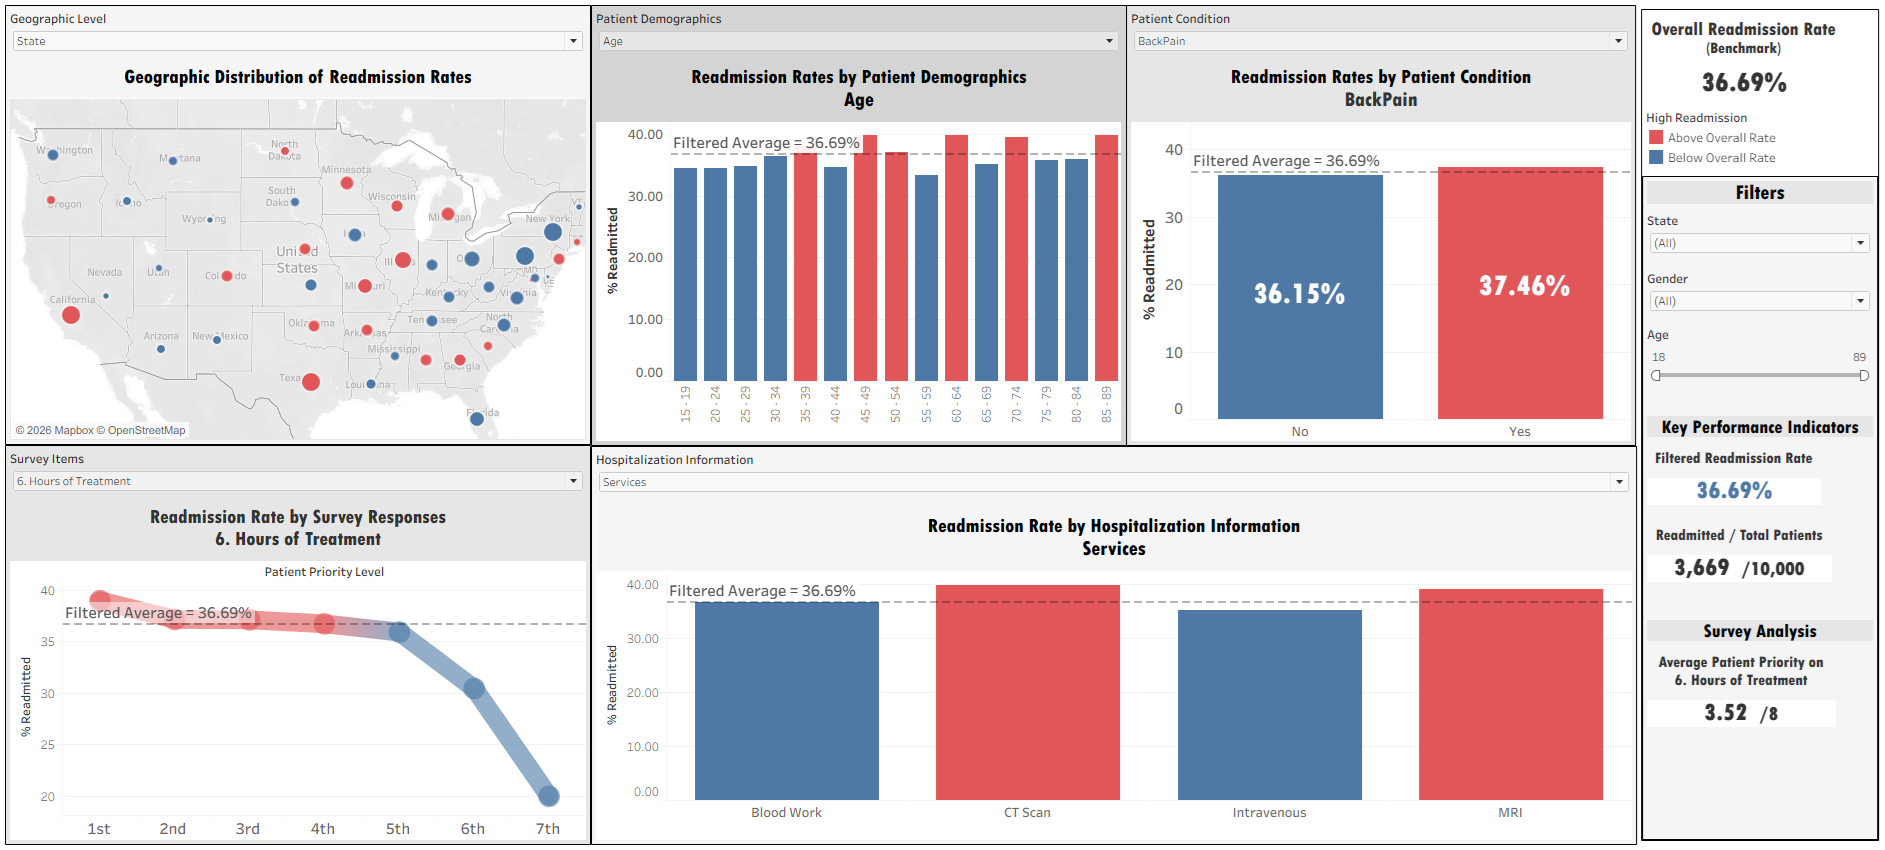

The dashboard page shown, as its layout file describes it:
{"tool":"tableau","page":{"name":"Dashboard","canvas":[1000,1000],"units":"permille","ordinal":0},"visuals":[{"type":"parameter","param":"[Parameters].[Parameter 1]","box":[4.8,10.5,308.2,60.8]},{"type":"parameter","param":"[Parameters].[Parameter 4]","box":[314,10.5,281.7,60.8]},{"type":"parameter","param":"[Parameters].[Parameter 2]","box":[596.8,10.5,268.4,60.8]},{"type":"worksheet","title":"Sheet 7","mark":"Automatic","box":[868.4,15.2,124.8,111]},{"type":"worksheet","title":"Sheet 1","mark":"Circle","rows":["Lat"],"cols":["Lng"],"box":[4.8,71.3,308.2,450.9]},{"type":"worksheet","title":"Sheet 2","mark":"Automatic","rows":["Calculation_2133298895735046153"],"cols":["Calculation_1626080993015902222"],"box":[314,71.3,281.7,452.1]},{"type":"worksheet","title":"Sheet 3","mark":"Automatic","rows":["Calculation_2133298895735046153"],"cols":["Calculation_2133298895759450122"],"box":[596.8,71.3,268.4,452.1]},{"type":"legend","title":"Sheet 4","param":"[federated.0v69dea1jgp9s410dudc202bnpq1].[usr:Calculation_718042716688592896:nk]","box":[868.4,126.2,124.8,83]},{"type":"text","box":[868.9,210.3,123.7,36.2]},{"type":"filter","title":"Sheet 1","param":"[federated.0v69dea1jgp9s410dudc202bnpq1].[none:State:nk]","box":[868.9,246.5,123.7,67.8]},{"type":"filter","title":"Sheet 1","param":"[federated.0v69dea1jgp9s410dudc202bnpq1].[none:Gender:nk]","box":[868.9,314.3,123.7,65.4]},{"type":"filter","title":"Sheet 1","param":"[federated.0v69dea1jgp9s410dudc202bnpq1].[none:Age:qk]","box":[868.9,379.7,123.7,105.1]},{"type":"text","box":[868.9,484.8,123.7,33.9]},{"type":"worksheet","title":"Sheet 5","mark":"Automatic","box":[868.9,518.7,123.7,90]},{"type":"parameter","param":"[Parameters].[Parameter 5]","box":[4.8,524.5,308.2,60.8]},{"type":"parameter","param":"[Parameters].[Parameter 3]","box":[314,525.7,551.2,70.1]},{"type":"worksheet","title":"Sheet 8","mark":"Line","rows":["Calculation_2133298895735046153"],"cols":["Calculation_1334191443445035008"],"box":[4.8,585.3,308.2,404.2]},{"type":"worksheet","title":"Sheet 4","mark":"Bar","rows":["Calculation_2133298895735046153"],"cols":["Patient Condition (copy)_1626080992869879808"],"box":[314,595.8,551.2,393.7]},{"type":"worksheet","title":"Sheet 6","mark":"Automatic","box":[868.9,608.7,123.7,114.5]},{"type":"text","box":[868.9,723.2,123.7,33.9]},{"type":"worksheet","title":"Sheet 9","mark":"Automatic","box":[868.9,757.1,123.7,151.9]}]}

Visuals, with their boxes on the dashboard's canvas, which has no fixed pixel size, in thousandths of its width and height (x1, y1, x2, y2). These are canvas units, not pixel positions in the 1885x850 screenshot, which may show the page scaled, cropped or inside an application window:
parameter: box(5, 10, 313, 71)
parameter: box(314, 10, 596, 71)
parameter: box(597, 10, 865, 71)
"Sheet 7" worksheet: box(868, 15, 993, 126)
"Sheet 1" worksheet (Circle marks): box(5, 71, 313, 522)
"Sheet 2" worksheet: box(314, 71, 596, 523)
"Sheet 3" worksheet: box(597, 71, 865, 523)
"Sheet 4" legend: box(868, 126, 993, 209)
text: box(869, 210, 993, 246)
"Sheet 1" filter: box(869, 246, 993, 314)
"Sheet 1" filter: box(869, 314, 993, 380)
"Sheet 1" filter: box(869, 380, 993, 485)
text: box(869, 485, 993, 519)
"Sheet 5" worksheet: box(869, 519, 993, 609)
parameter: box(5, 524, 313, 585)
parameter: box(314, 526, 865, 596)
"Sheet 8" worksheet (Line marks): box(5, 585, 313, 990)
"Sheet 4" worksheet (Bar marks): box(314, 596, 865, 990)
"Sheet 6" worksheet: box(869, 609, 993, 723)
text: box(869, 723, 993, 757)
"Sheet 9" worksheet: box(869, 757, 993, 909)
